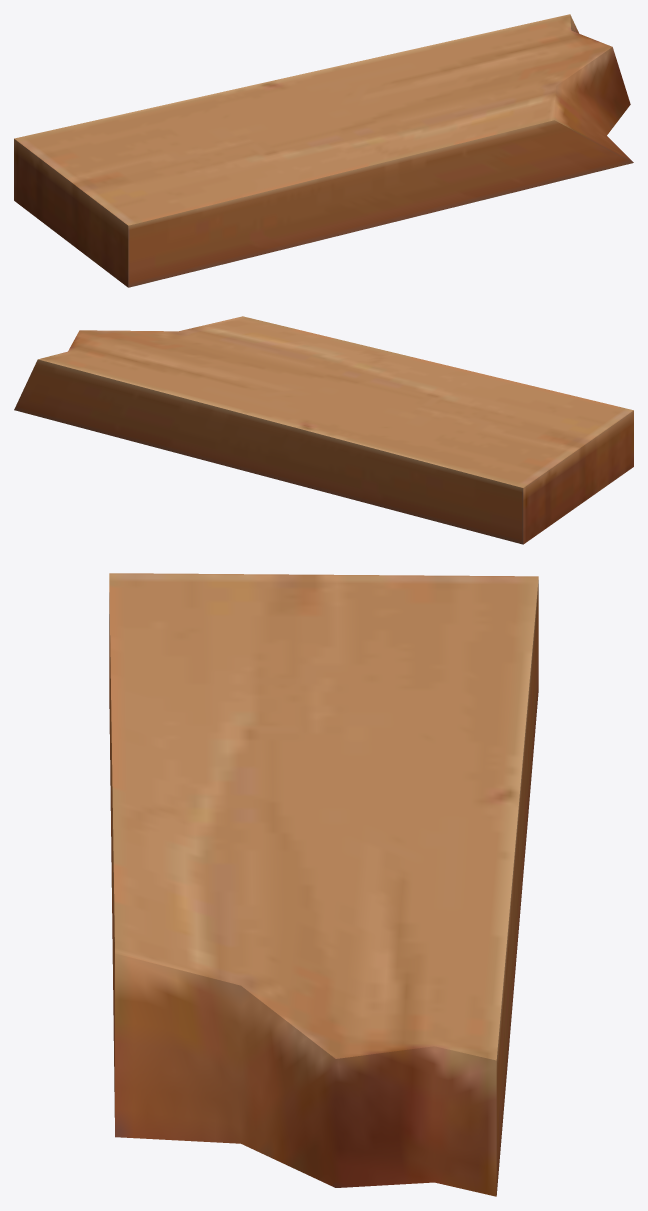
The model's file is ZhuCheng_MuBan_03.fbx.
3 renders of one model, top to bottom at view 1: azimuth 30°, elevation 25°; view 2: azimuth 150°, elevation 25°; view 3: azimuth 270°, elevation 25°, orthographic. The views are drawn at different scales.
Visible parts, largest first — view 1: ZhuCheng_MuBan_03; view 2: ZhuCheng_MuBan_03; view 3: ZhuCheng_MuBan_03.
Part boxes in pixels (x1,y1,x2,y2): ZhuCheng_MuBan_03: (14,14,633,287); ZhuCheng_MuBan_03: (14,316,633,544); ZhuCheng_MuBan_03: (109,573,538,1196).
Bounding box in the file's own units: 0.8753 × 0.0904 × 0.3112.
